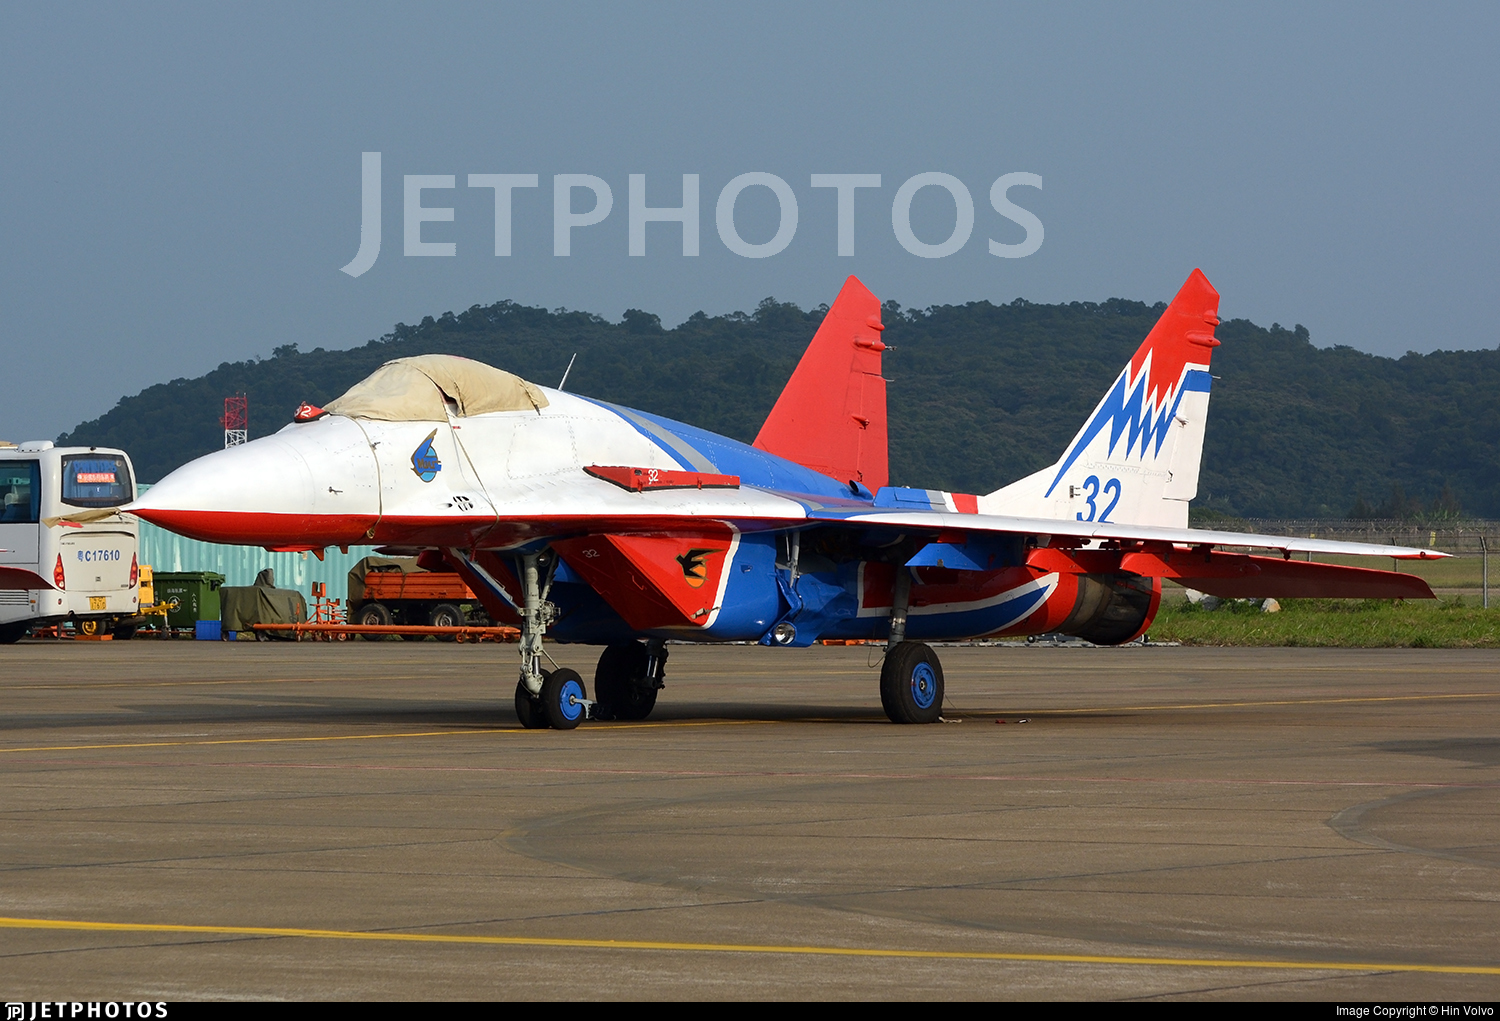Mig-29: (96, 263, 1436, 781)
